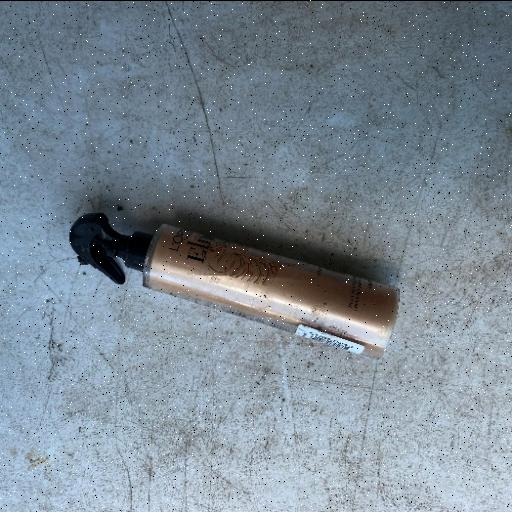Metal: (66, 208, 402, 360)
